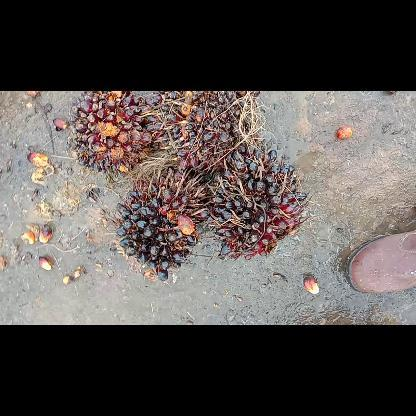TBS abnormal: (206, 145, 314, 261), (112, 164, 212, 286)
TBS masak: (146, 90, 266, 174), (66, 91, 170, 181)
